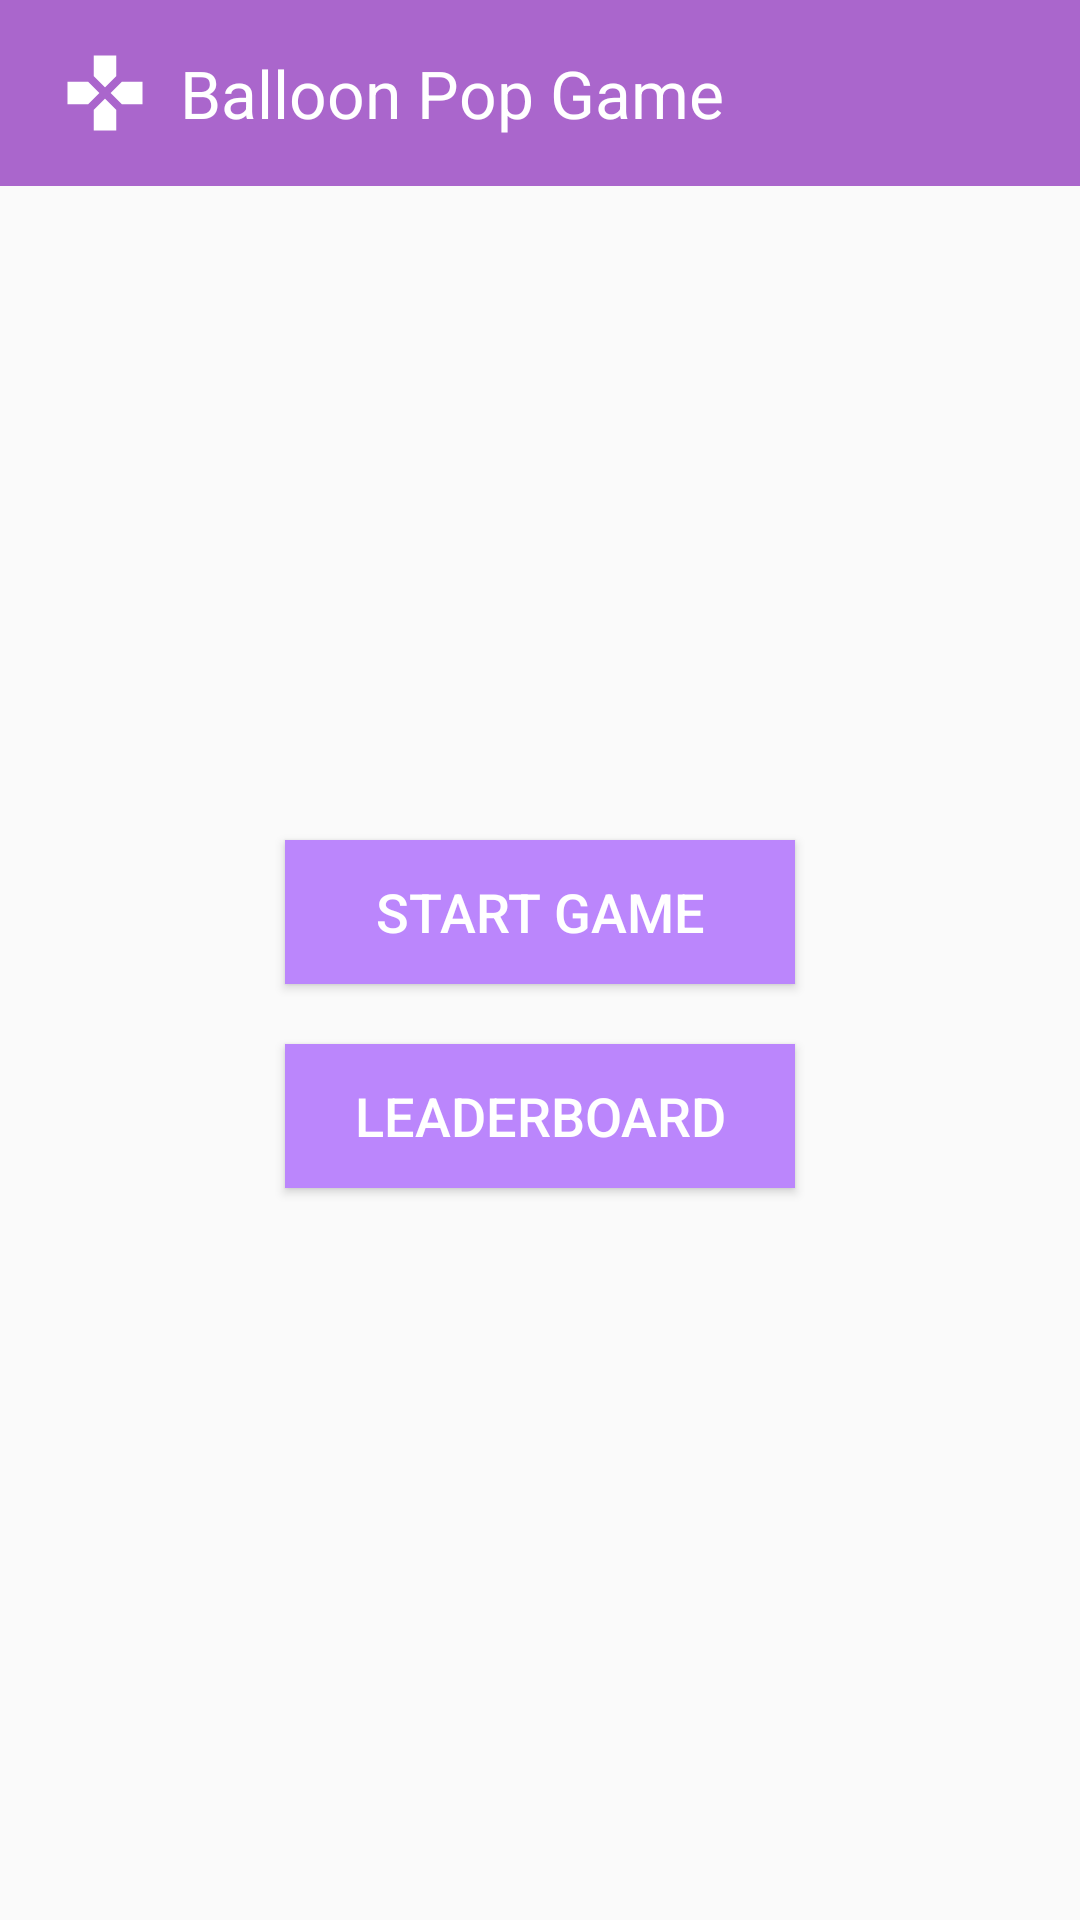

Icons on this 1080px×1920px Android screen, each with its box as (x1, y1, x2, y2):
games: (67, 55, 143, 131)
